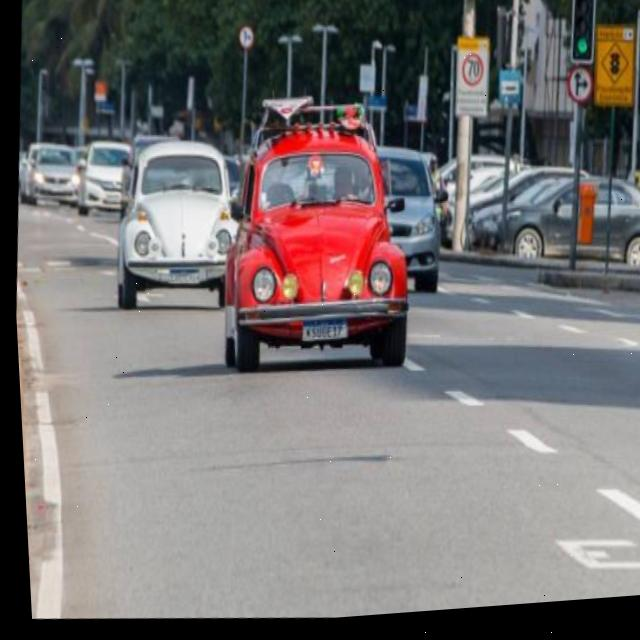vehicle: (208, 109, 420, 386), (102, 127, 244, 308), (21, 134, 81, 214), (75, 140, 135, 213)
